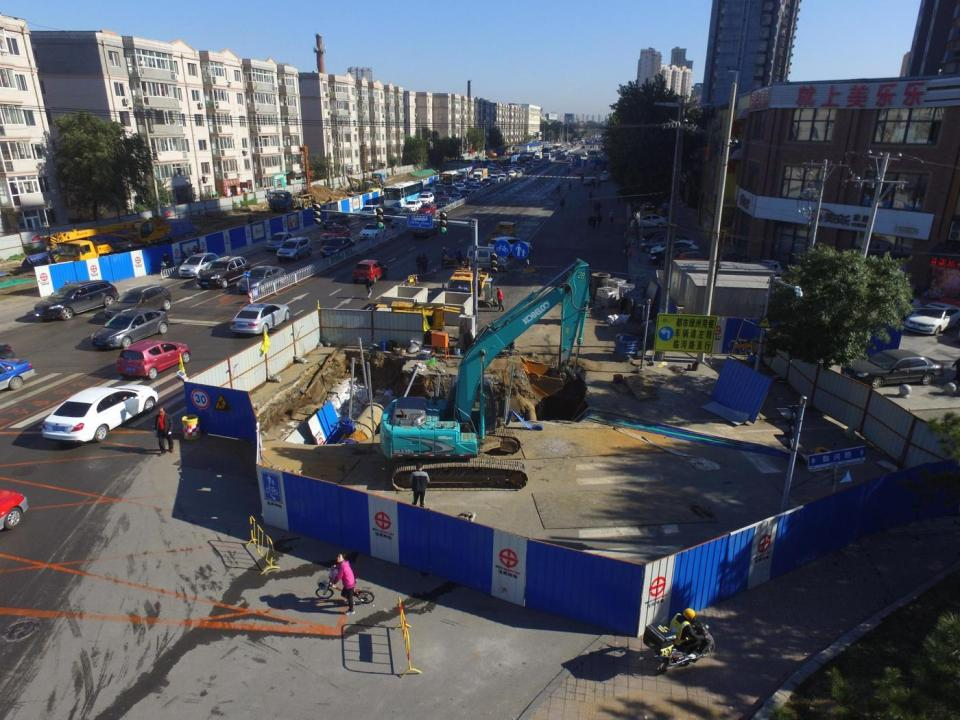bus: (381, 180, 425, 207), (438, 169, 468, 188)
car: (42, 380, 160, 450), (839, 349, 944, 387), (27, 282, 120, 320), (116, 336, 193, 381), (90, 309, 173, 349), (863, 289, 925, 326), (227, 300, 291, 334), (107, 285, 174, 317), (196, 256, 254, 288), (902, 302, 958, 334), (646, 248, 712, 274), (235, 264, 290, 294), (648, 239, 706, 263), (738, 257, 783, 287), (641, 235, 700, 256), (640, 231, 693, 254), (179, 252, 222, 278), (712, 252, 749, 281), (350, 258, 390, 284), (489, 235, 532, 259), (674, 252, 719, 274), (276, 237, 313, 261), (319, 237, 358, 257), (630, 214, 672, 230), (263, 232, 297, 250), (320, 224, 352, 242), (359, 222, 388, 241), (410, 222, 441, 239), (323, 212, 352, 229), (638, 202, 668, 218), (390, 212, 417, 229), (355, 204, 382, 221), (634, 207, 665, 220), (383, 206, 403, 221), (403, 199, 424, 213), (416, 203, 438, 215), (418, 191, 436, 204), (447, 191, 464, 204), (434, 189, 451, 202), (437, 197, 456, 208), (458, 189, 475, 198), (443, 185, 459, 194), (462, 180, 475, 190), (470, 185, 484, 194), (599, 173, 611, 183), (424, 186, 437, 195), (467, 177, 480, 186), (476, 181, 490, 189), (482, 178, 494, 187), (434, 183, 447, 191), (454, 182, 467, 190), (602, 170, 610, 180), (507, 170, 518, 177), (576, 168, 584, 176), (487, 172, 495, 180), (492, 170, 500, 178), (499, 173, 508, 180), (496, 170, 502, 178), (565, 156, 572, 162)
truck: (450, 263, 490, 300), (264, 188, 317, 212), (487, 220, 519, 250), (360, 171, 391, 192), (472, 167, 489, 181)
van: (465, 245, 511, 272), (488, 174, 500, 183)
